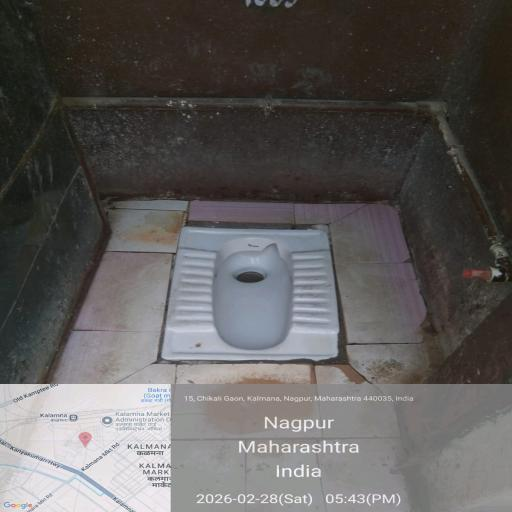dirty_floor: (90, 186, 437, 388)
partial_dirty_floor: (35, 0, 465, 188), (4, 196, 88, 373), (452, 208, 511, 399)
partial_dirty_indian: (170, 222, 338, 356)
